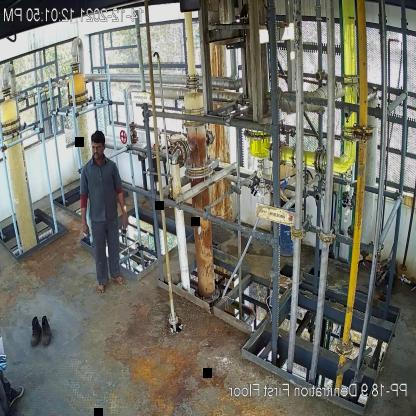no_shoes: (110, 274, 127, 284), (97, 283, 107, 296)
shoes: (38, 314, 52, 347), (29, 316, 41, 346)
